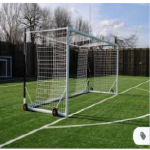goals: (24, 26, 122, 117)
